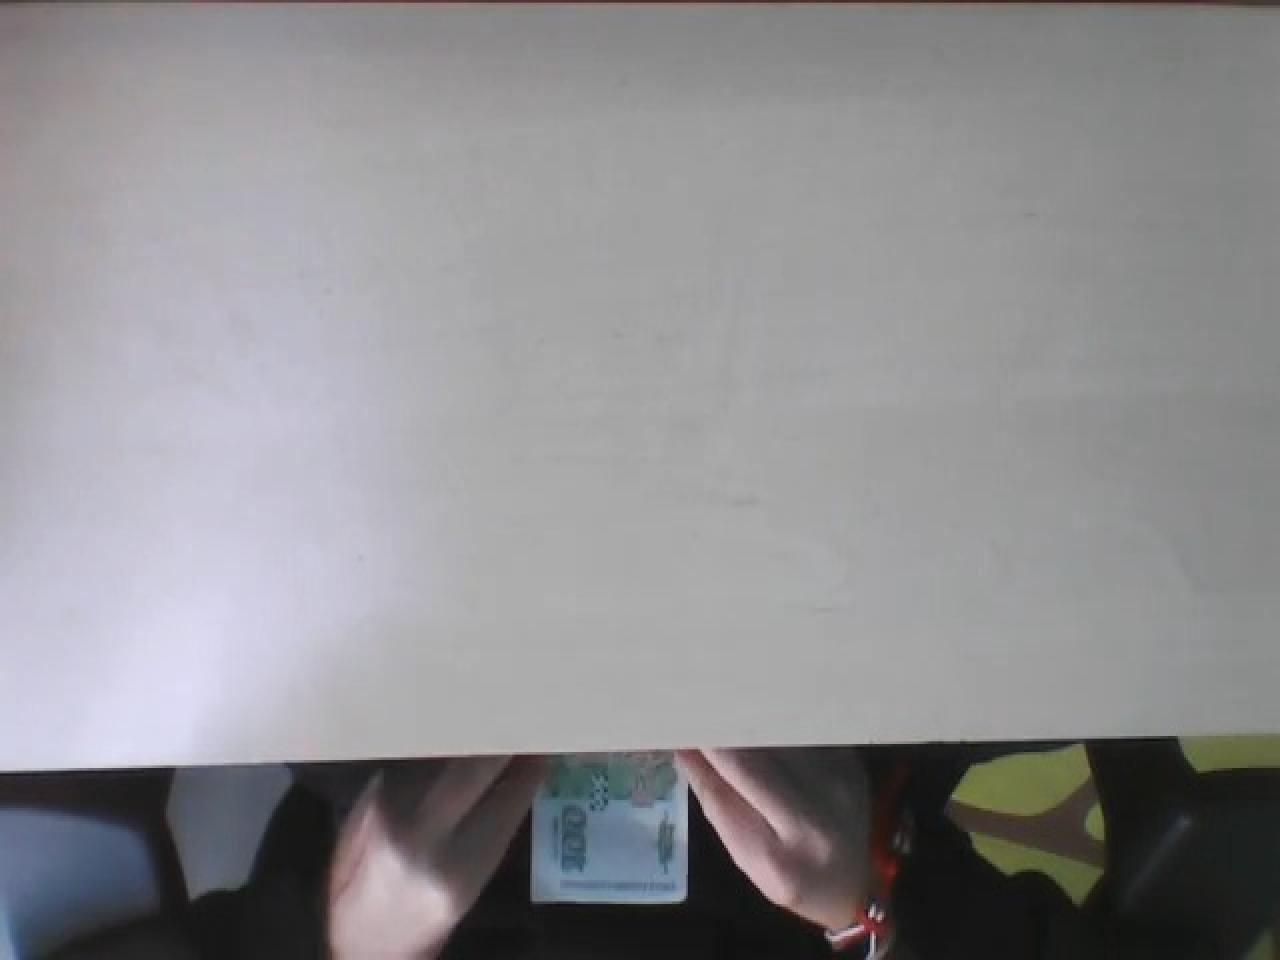100leva: (526, 754, 688, 910)
